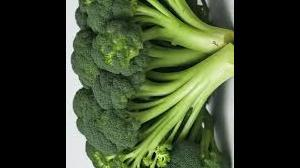broccoli: (70, 0, 234, 167)
